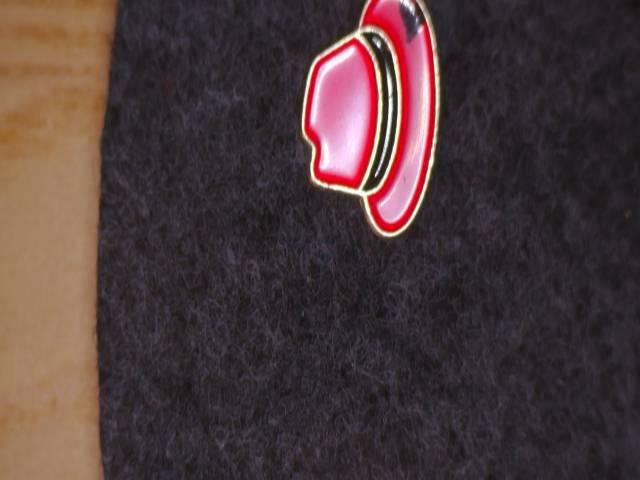Red-Hat: (279, 0, 464, 275)
Scratch: (388, 0, 435, 58)
